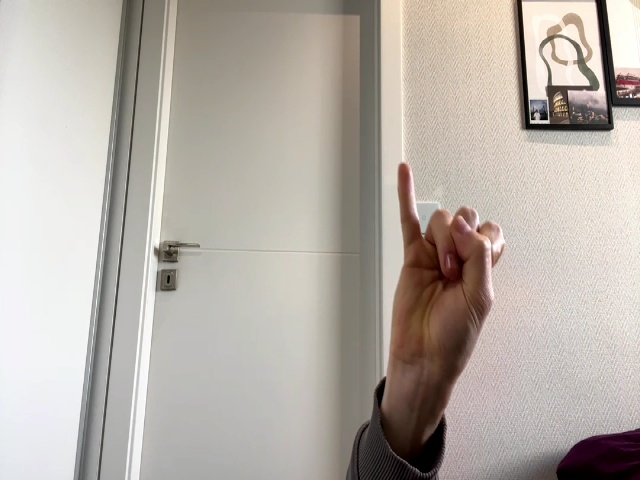I: (391, 164, 506, 374)
